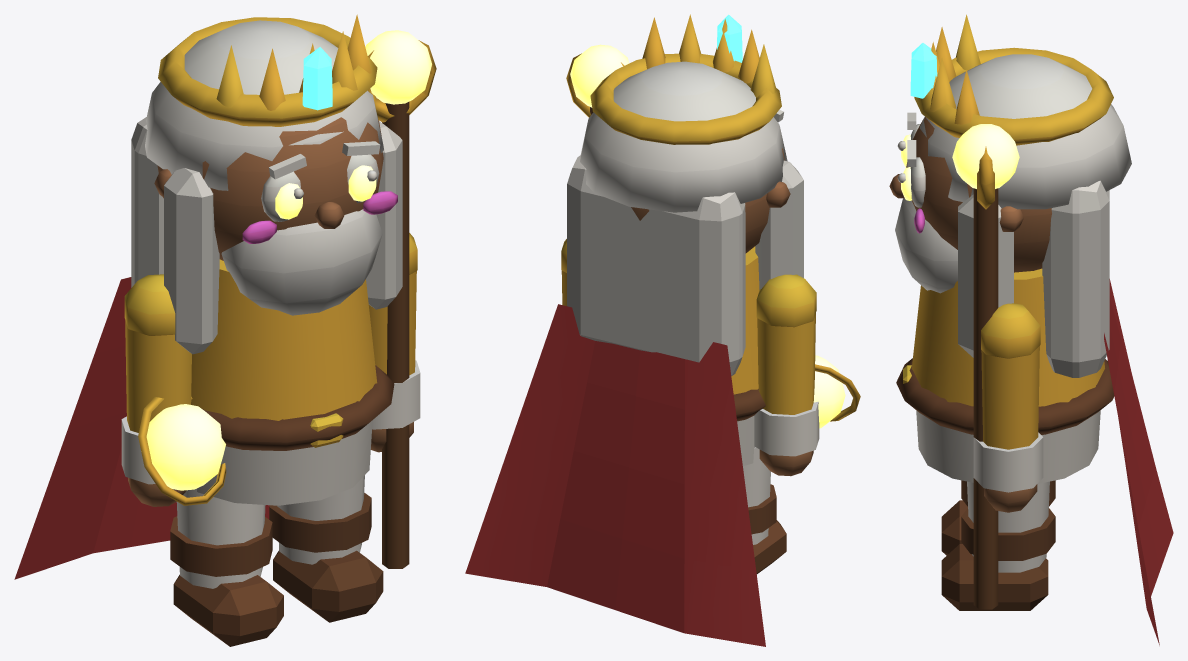
Rendered from hero_solon.glb.
3 views of the same model, side by side, from view 1: azimuth 30°, elevation 25°; view 2: azimuth 150°, elevation 25°; view 3: azimuth 270°, elevation 25° (orthographic). The views are drawn at different scales.
Parts seen in each view (by area): view 1: body_t0_palette, legl_t0_palette, armr_t0_palette, legr_t0_palette, arml_t0_palette, arml_t0_glow_gold, armr_t0_glow_gold, body_t0_crystal, body_t0_glow_gold; view 2: body_t0_palette, arml_t0_palette, legl_t0_palette, armr_t0_glow_gold, arml_t0_glow_gold, body_t0_crystal, armr_t0_palette; view 3: body_t0_palette, armr_t0_palette, legr_t0_palette, armr_t0_glow_gold, legl_t0_palette, body_t0_crystal, body_t0_glow_gold.
Part boxes in pixels (box(x1,y1,x2,y2)): body_t0_palette: box(14, 14, 402, 579); legl_t0_palette: box(170, 488, 283, 646); armr_t0_palette: box(368, 40, 436, 568); legr_t0_palette: box(269, 475, 383, 622); arml_t0_palette: box(121, 274, 226, 506); arml_t0_glow_gold: box(146, 404, 225, 490); armr_t0_glow_gold: box(365, 30, 431, 104); body_t0_crystal: box(302, 47, 332, 110); body_t0_glow_gold: box(275, 165, 376, 219); body_t0_palette: box(465, 14, 803, 646); arml_t0_palette: box(754, 274, 860, 476); legl_t0_palette: box(743, 447, 786, 574); armr_t0_glow_gold: box(570, 44, 629, 107); arml_t0_glow_gold: box(813, 355, 845, 428); body_t0_crystal: box(717, 14, 742, 62); armr_t0_palette: box(561, 53, 624, 305); body_t0_palette: box(889, 14, 1173, 645); armr_t0_palette: box(973, 146, 1043, 609); legr_t0_palette: box(941, 481, 1055, 610); armr_t0_glow_gold: box(952, 124, 1019, 188); legl_t0_palette: box(941, 480, 1055, 555); body_t0_crystal: box(910, 43, 937, 98); body_t0_glow_gold: box(901, 134, 911, 200).
Size of the model in its own units: 0.32 by 0.53 by 0.253.
